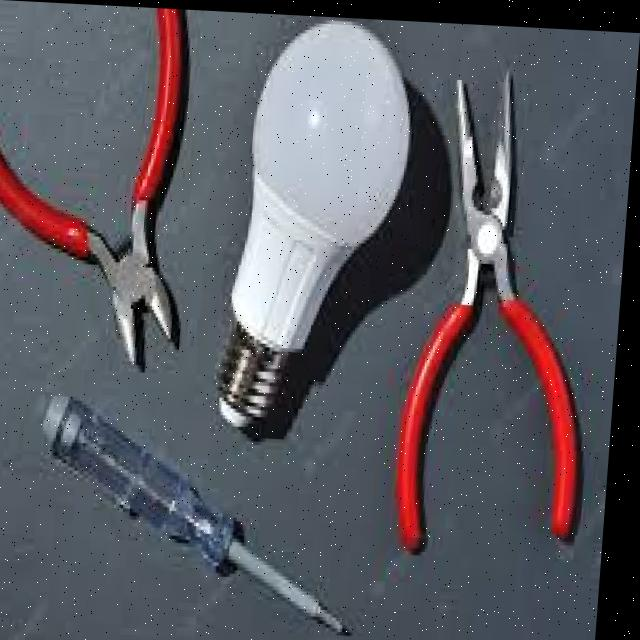Screwdriver: (53, 394, 357, 630)
